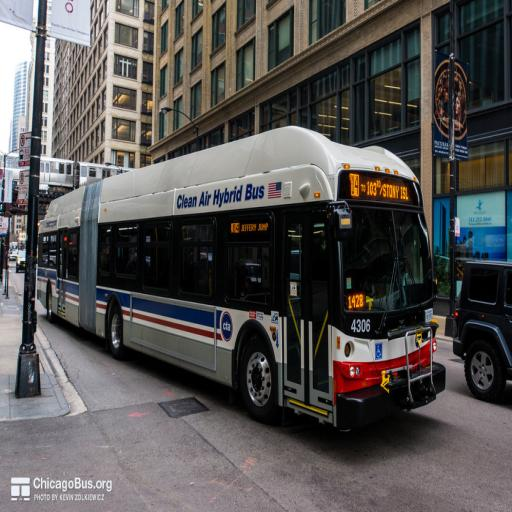bus: (38, 127, 444, 429)
suv: (453, 258, 512, 402)
